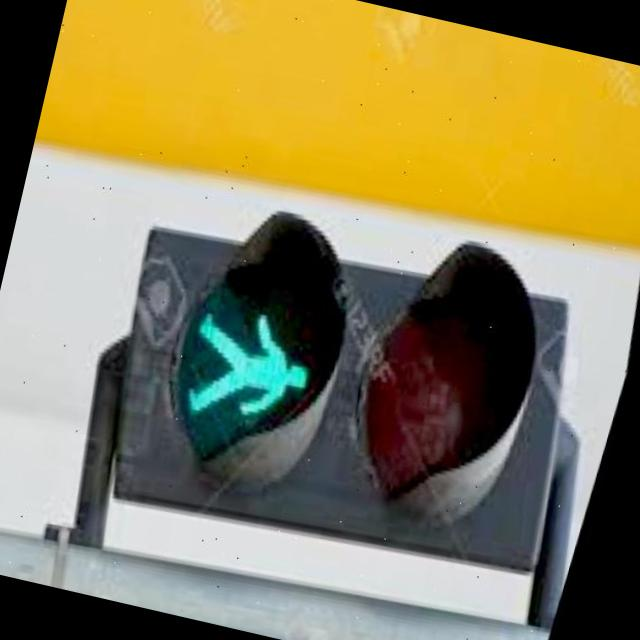green_light: (162, 292, 348, 459)
